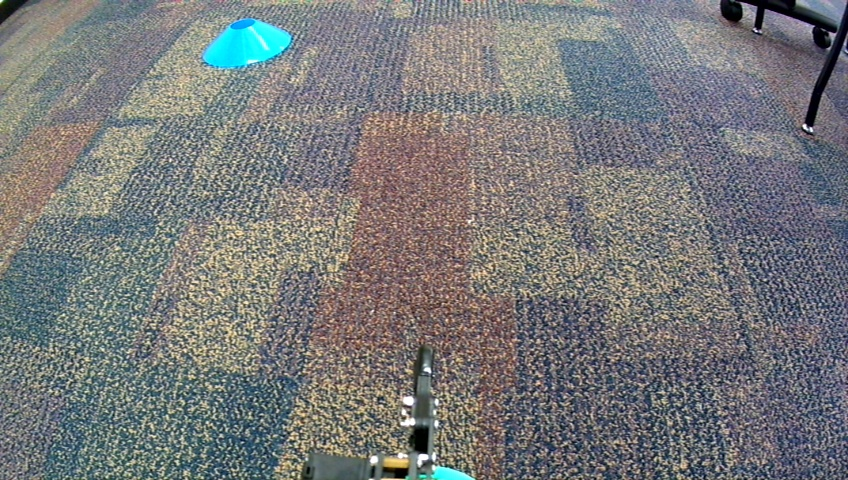cone: (201, 17, 291, 67)
